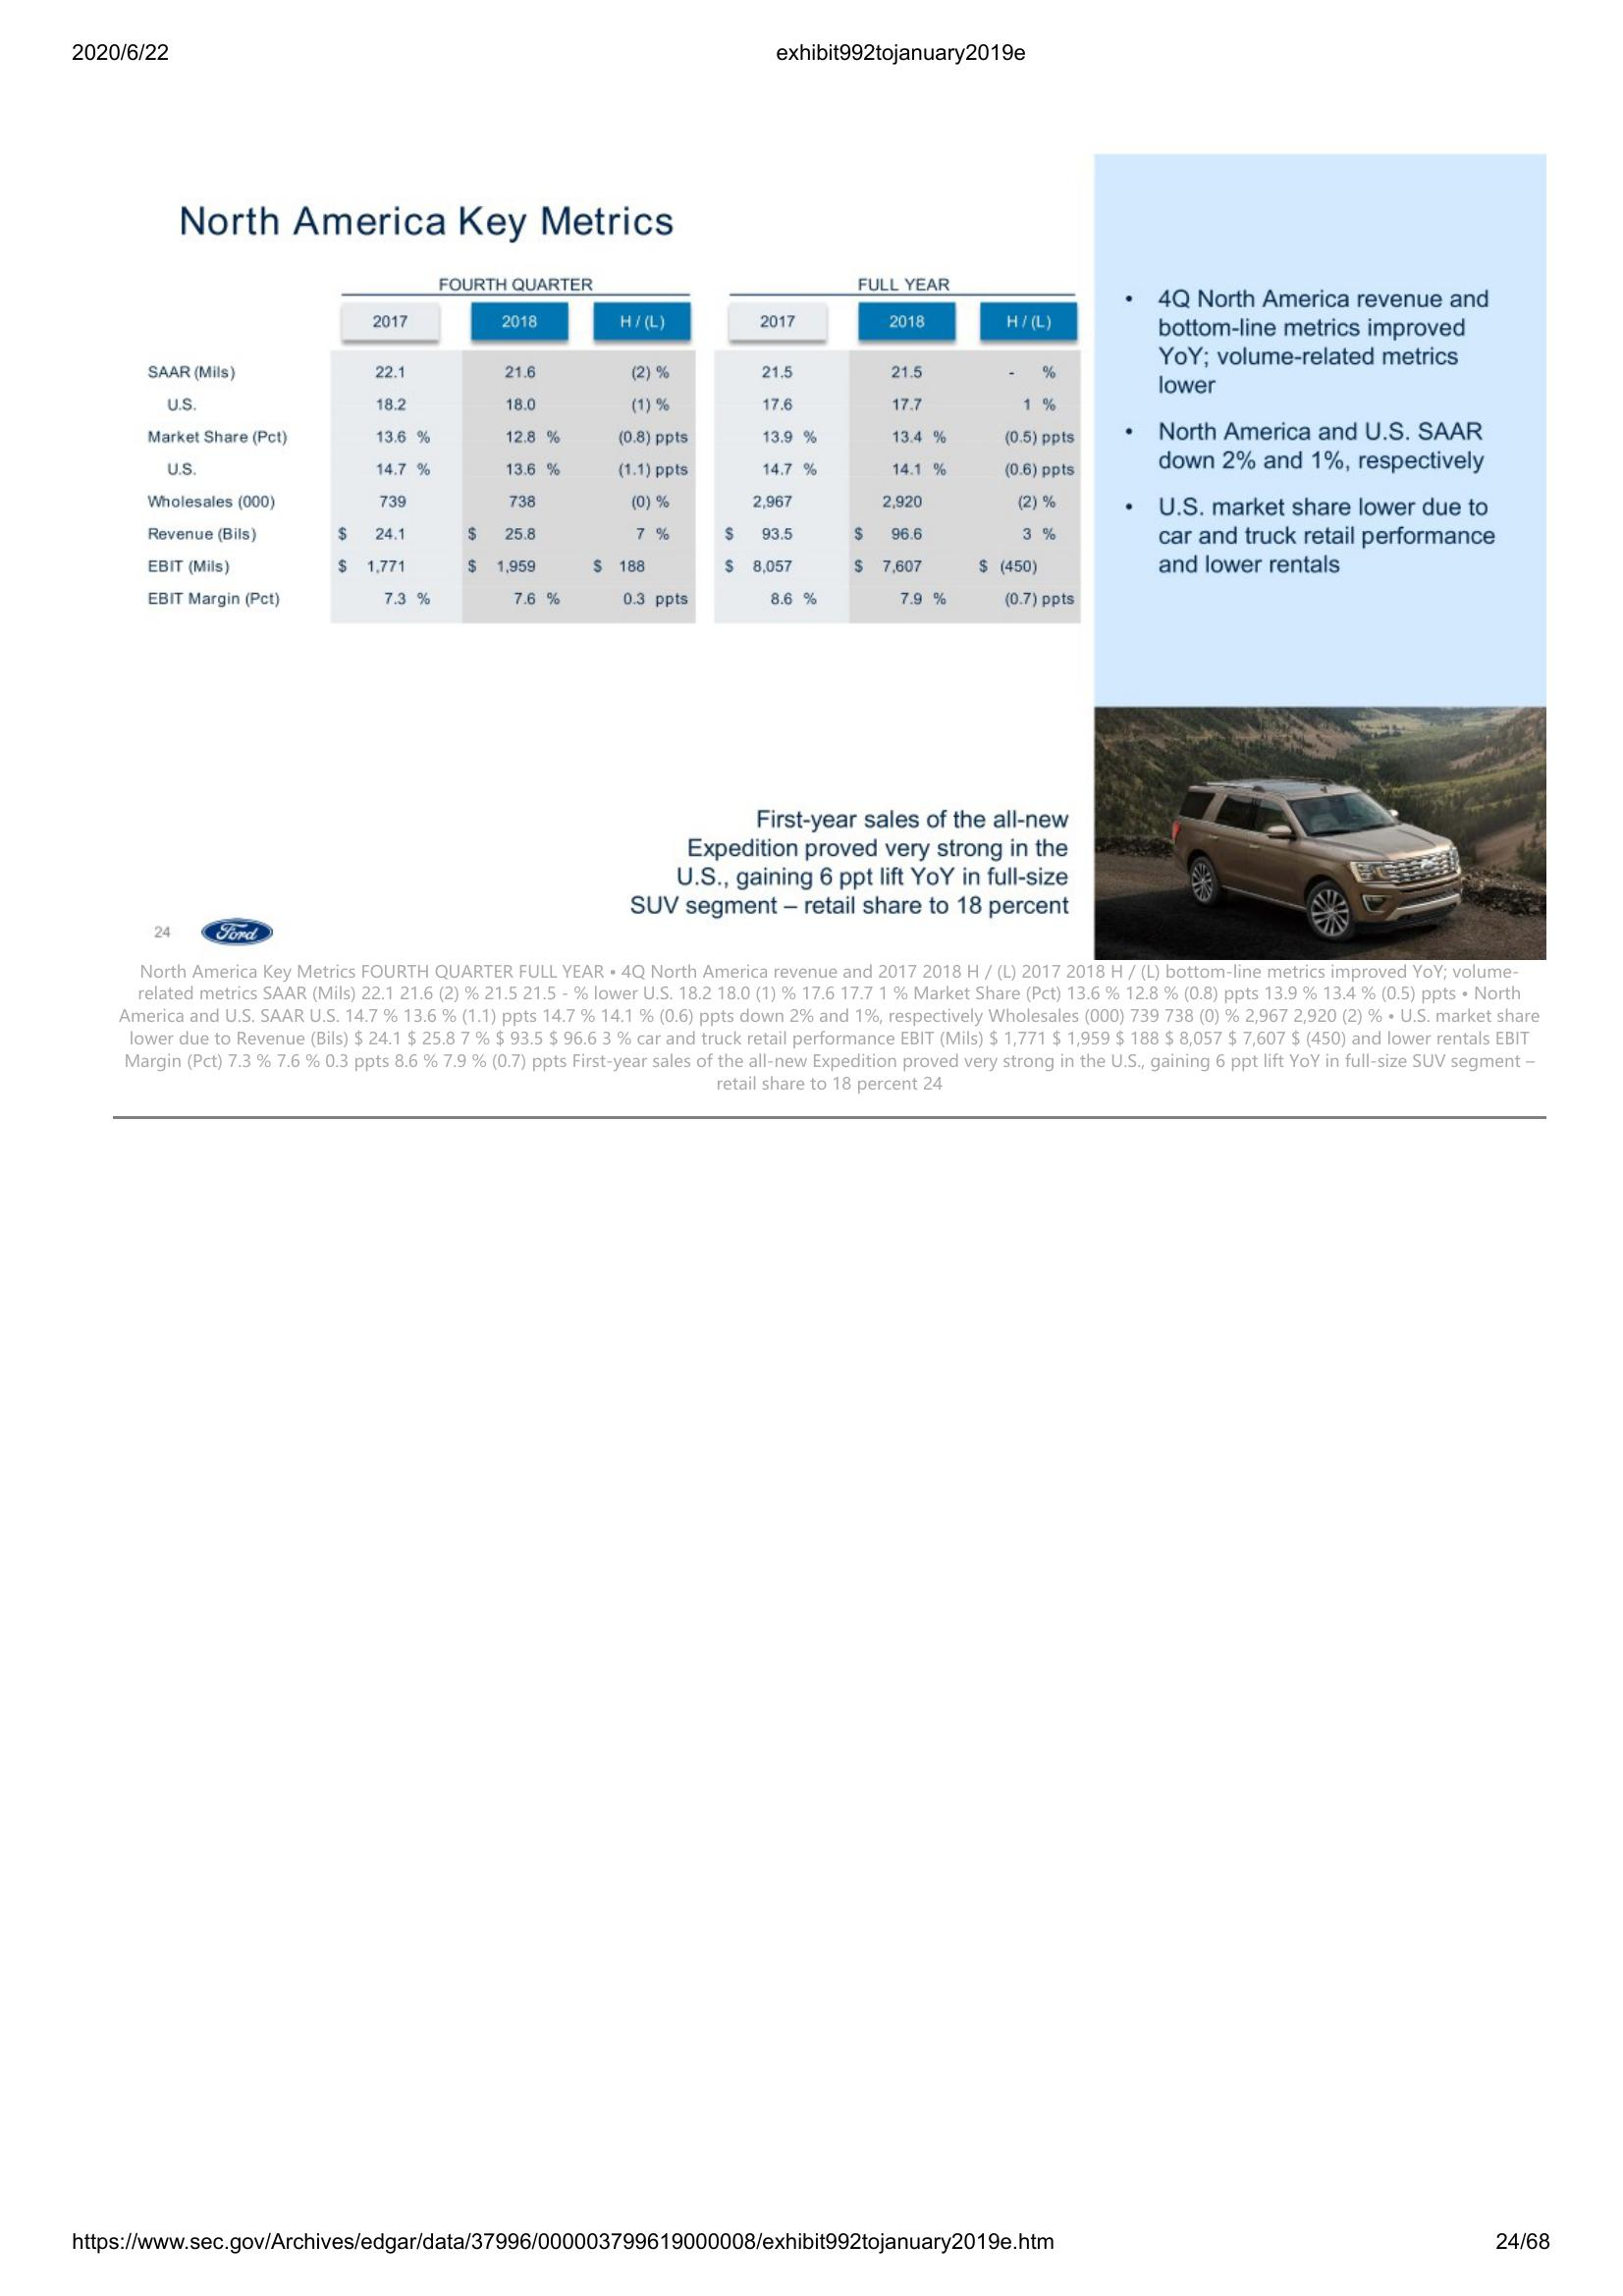table: (142, 270, 1084, 628)
